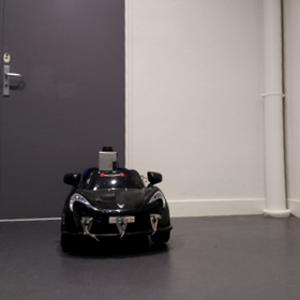big: (57, 165, 176, 258)
